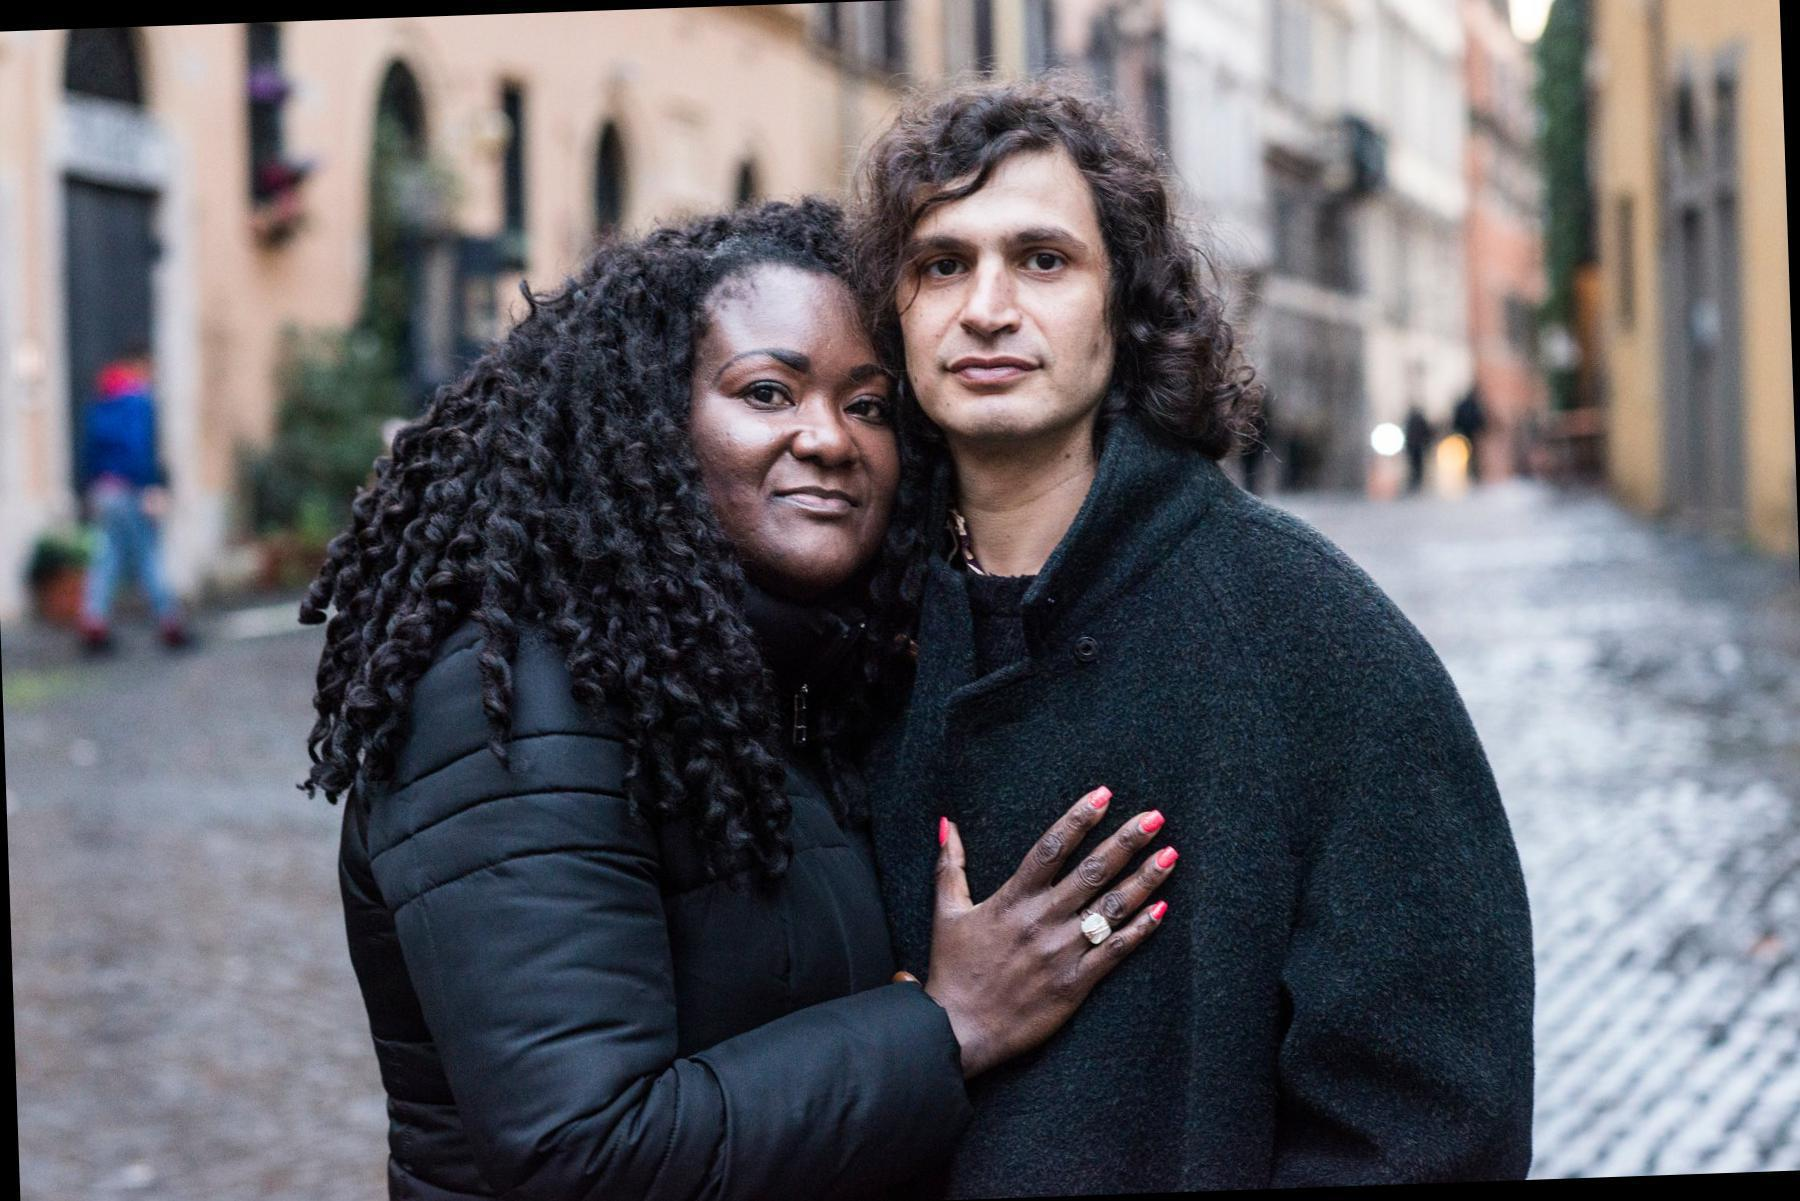Sober: (901, 158, 1104, 420), (708, 281, 889, 558)
